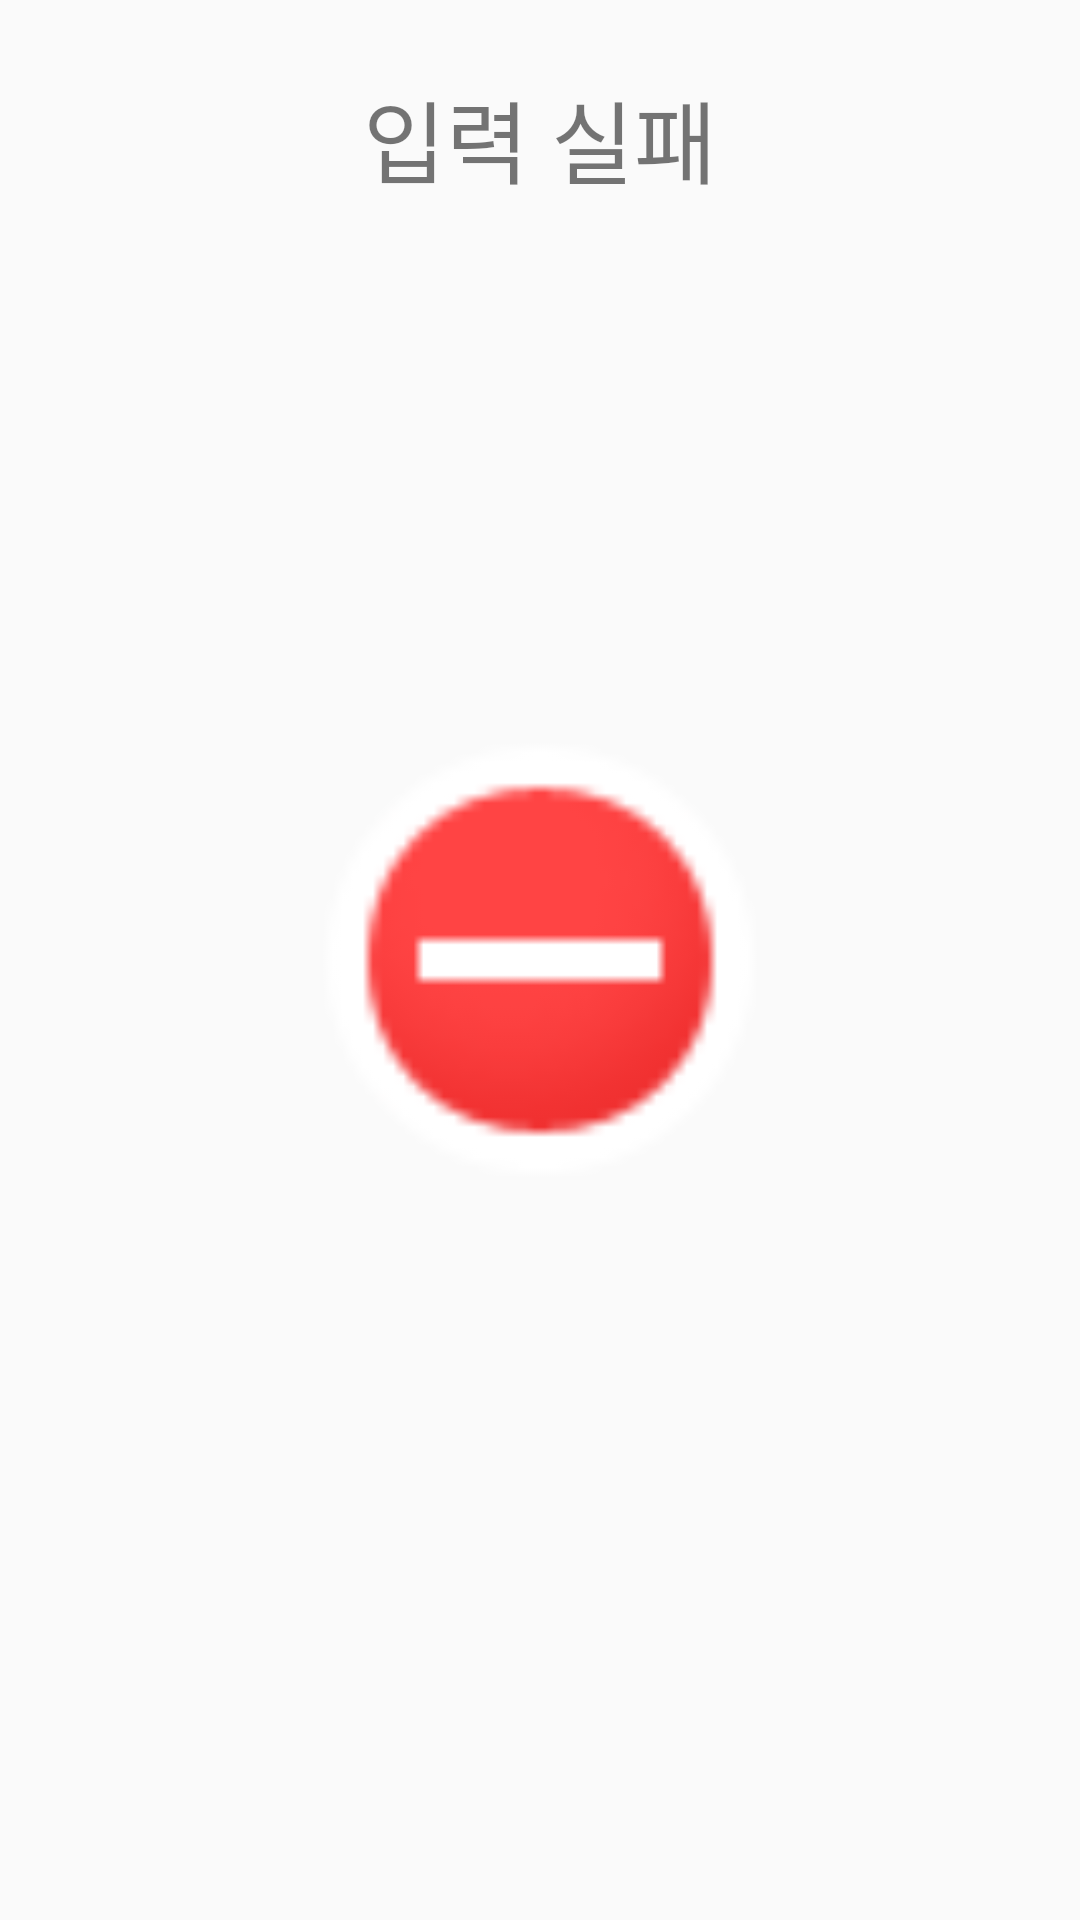

Icon bounding boxes for this 1080px x 1920px phone screenshot, format (x1, y1, x2, y2):
presence busy: (364, 784, 716, 1136)
